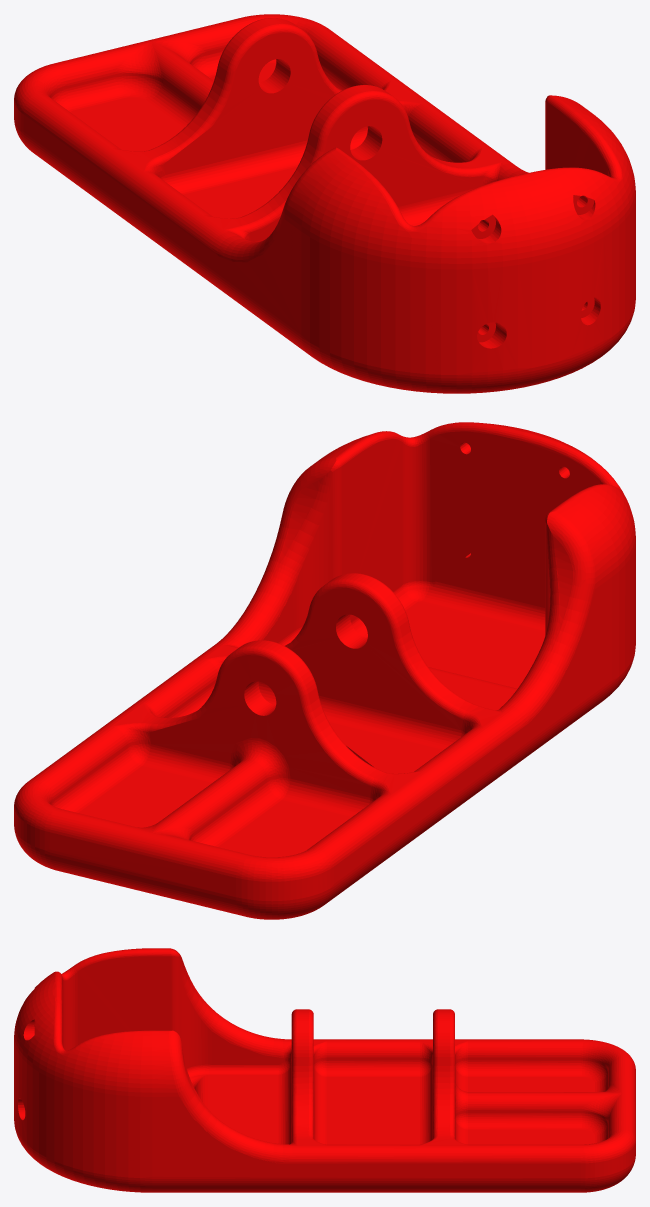
The model's file is legs_1_right_leg_1_foot_1.glb.
3 renders of one model, top to bottom at view 1: azimuth 30°, elevation 25°; view 2: azimuth 150°, elevation 25°; view 3: azimuth 270°, elevation 25°, orthographic. The views are drawn at different scales.
Visible parts, largest first — view 1: legs_1_right_leg_1_foot_1.obj; view 2: legs_1_right_leg_1_foot_1.obj; view 3: legs_1_right_leg_1_foot_1.obj.
Part boxes in pixels (x1,y1,x2,y2): legs_1_right_leg_1_foot_1.obj: [14, 14, 635, 393]; legs_1_right_leg_1_foot_1.obj: [14, 422, 635, 919]; legs_1_right_leg_1_foot_1.obj: [14, 948, 635, 1192].
Bounding box in the file's own units: 0.1 × 0.0613 × 0.225.
